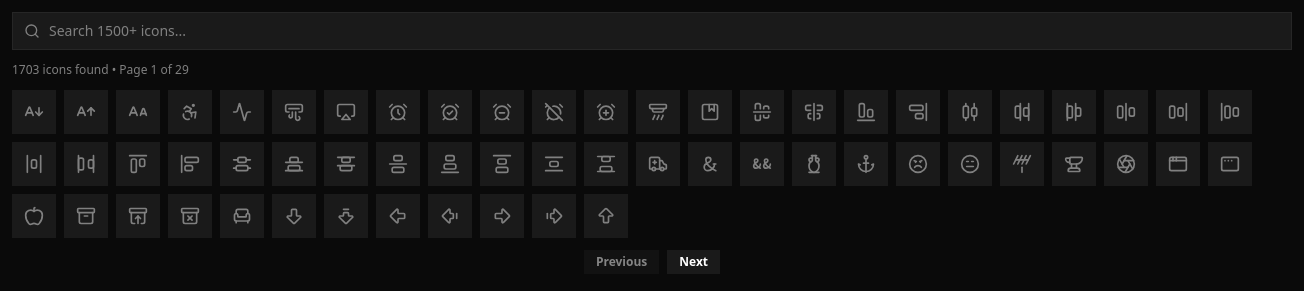
Test case: IconSelector Component › shows no results message when search finds nothing
The image size is (1304, 291).
Step 1. Type "xyznotfound123" into the field with placeholder "Search 1500+ icons..." → (652, 31), box [12,12,1292,50]
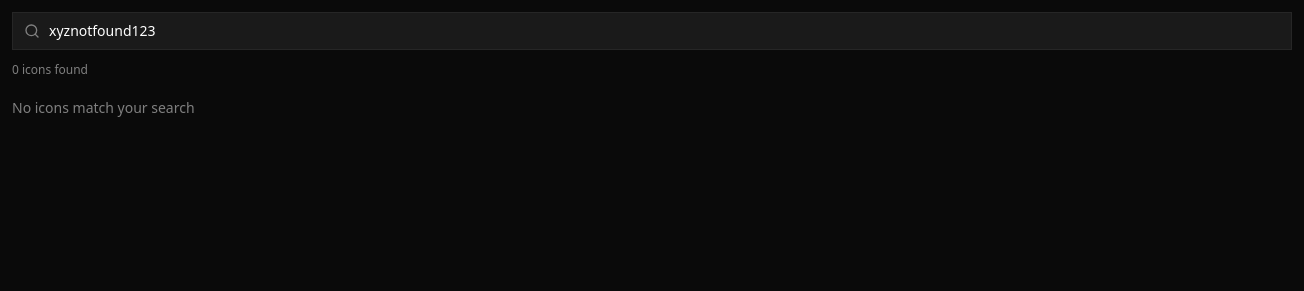
Check: the text "No icons match your search" is shown, box [12,98,195,117]
